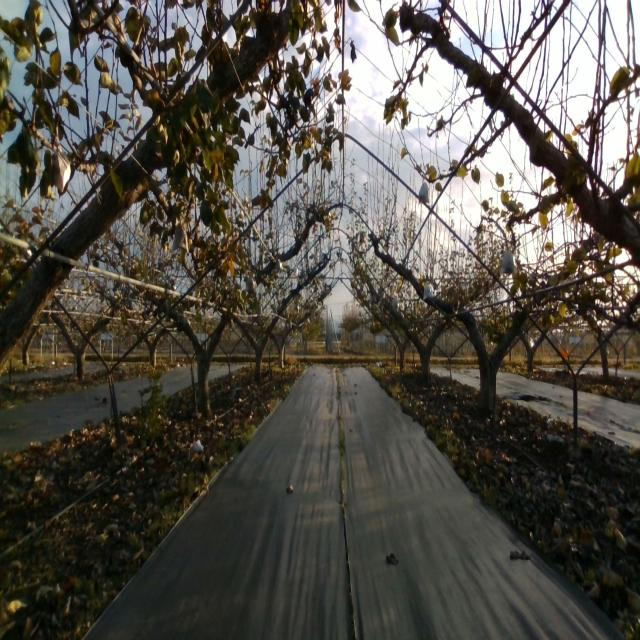pearbags: (49, 134, 72, 195), (171, 219, 189, 258), (500, 249, 518, 275), (418, 178, 429, 204), (423, 281, 435, 300), (245, 273, 257, 292)
